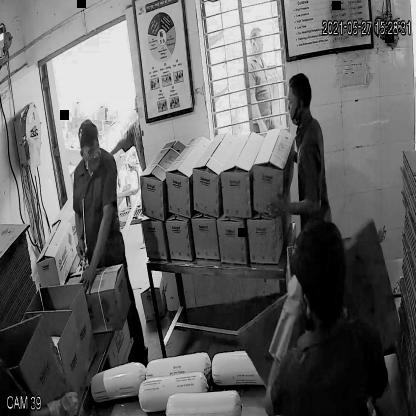no_goggles: (78, 142, 101, 158)
